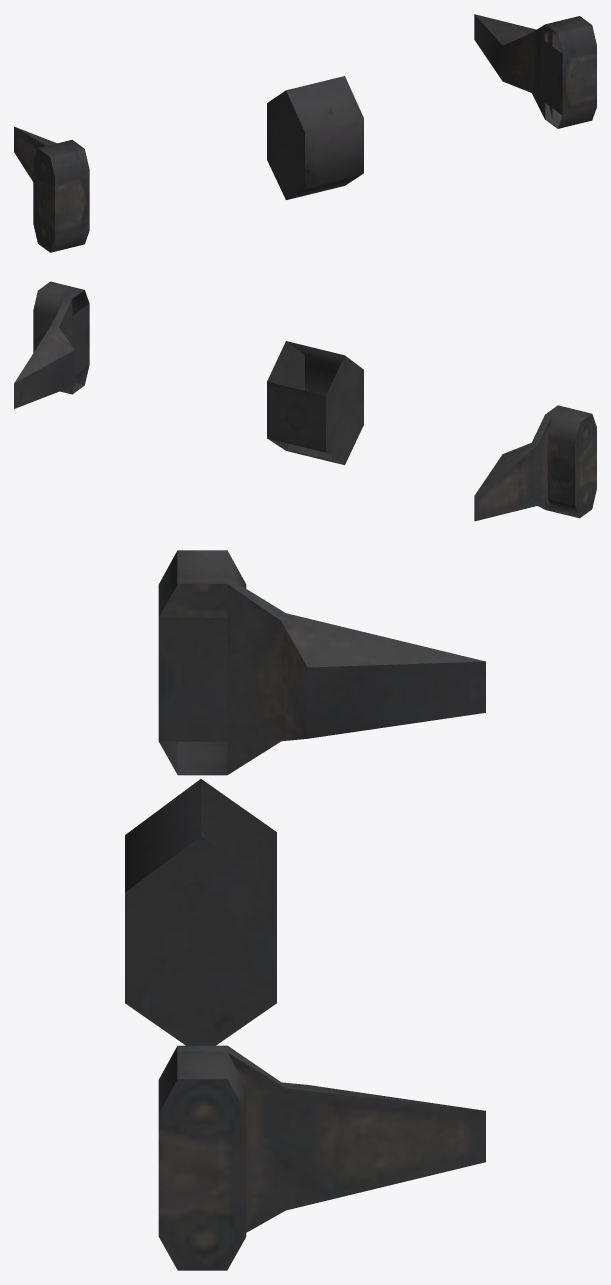
3 views of the same model, one above another, from view 1: azimuth 30°, elevation 25°; view 2: azimuth 150°, elevation 25°; view 3: azimuth 270°, elevation 25° (orthographic). The views are drawn at different scales.
Visible parts, largest first — view 1: set_0_group_0; view 2: set_0_group_0; view 3: set_0_group_0.
Part boxes in pixels (x1=…): set_0_group_0: x1=14, y1=14, x2=596, y2=252; set_0_group_0: x1=14, y1=281, x2=596, y2=521; set_0_group_0: x1=125, y1=550, x2=485, y2=1270.
Size of the model in its own units: 0.6544 by 0.1269 by 0.1889.
1 material, 1 textured.
